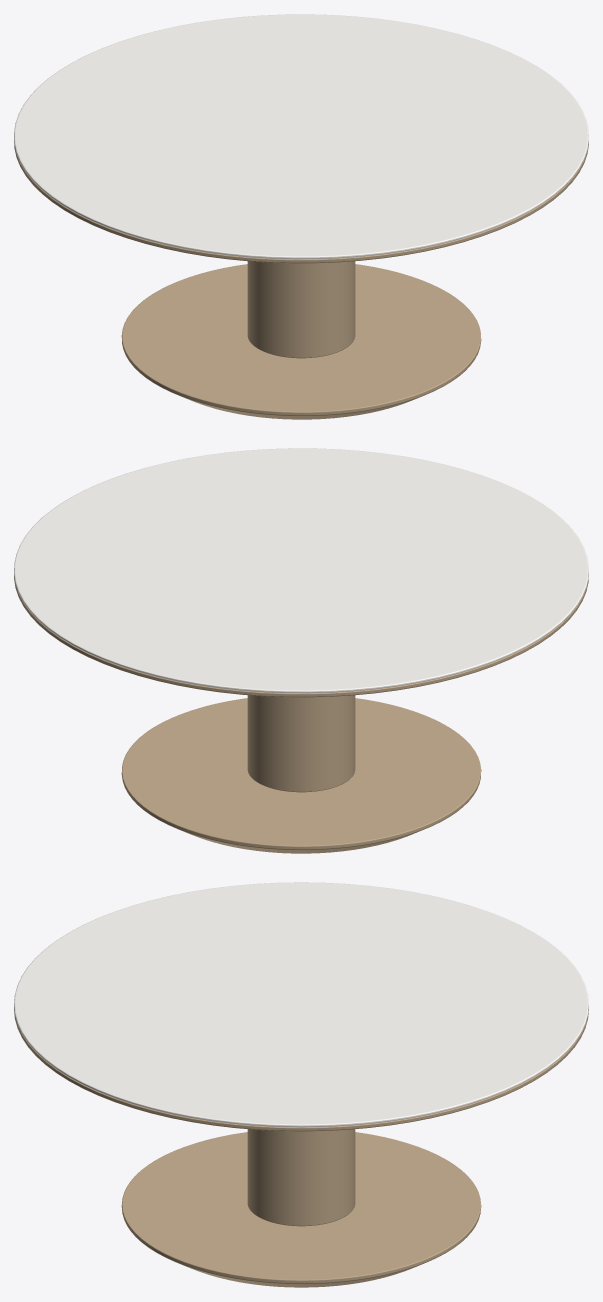
Rendered from orbit3d_d80h33.glb.
3 views of the same model, one above another, from view 1: azimuth 30°, elevation 25°; view 2: azimuth 150°, elevation 25°; view 3: azimuth 270°, elevation 25° (orthographic).
Visible parts, largest first — view 1: Top Orbit Coffee Table 016, Base Orbit Coffee Table 016, Base Element Orbit Coffee Table 019, Undertop Orbit Coffee Table 016; view 2: Top Orbit Coffee Table 016, Base Orbit Coffee Table 016, Base Element Orbit Coffee Table 019, Undertop Orbit Coffee Table 016; view 3: Top Orbit Coffee Table 016, Base Orbit Coffee Table 016, Base Element Orbit Coffee Table 019, Undertop Orbit Coffee Table 016.
Boxes of the visible parts, x1,y1,x2,y2 form: Top Orbit Coffee Table 016: (14,14,588,259); Base Orbit Coffee Table 016: (121,264,481,419); Base Element Orbit Coffee Table 019: (247,261,355,358); Undertop Orbit Coffee Table 016: (14,140,588,263); Top Orbit Coffee Table 016: (14,448,588,693); Base Orbit Coffee Table 016: (121,698,481,853); Base Element Orbit Coffee Table 019: (247,695,355,792); Undertop Orbit Coffee Table 016: (14,574,588,697); Top Orbit Coffee Table 016: (14,882,588,1127); Base Orbit Coffee Table 016: (121,1132,481,1287); Base Element Orbit Coffee Table 019: (247,1129,355,1226); Undertop Orbit Coffee Table 016: (14,1007,588,1131).
Size of the model in its own units: 0.8 by 0.334 by 0.8.
